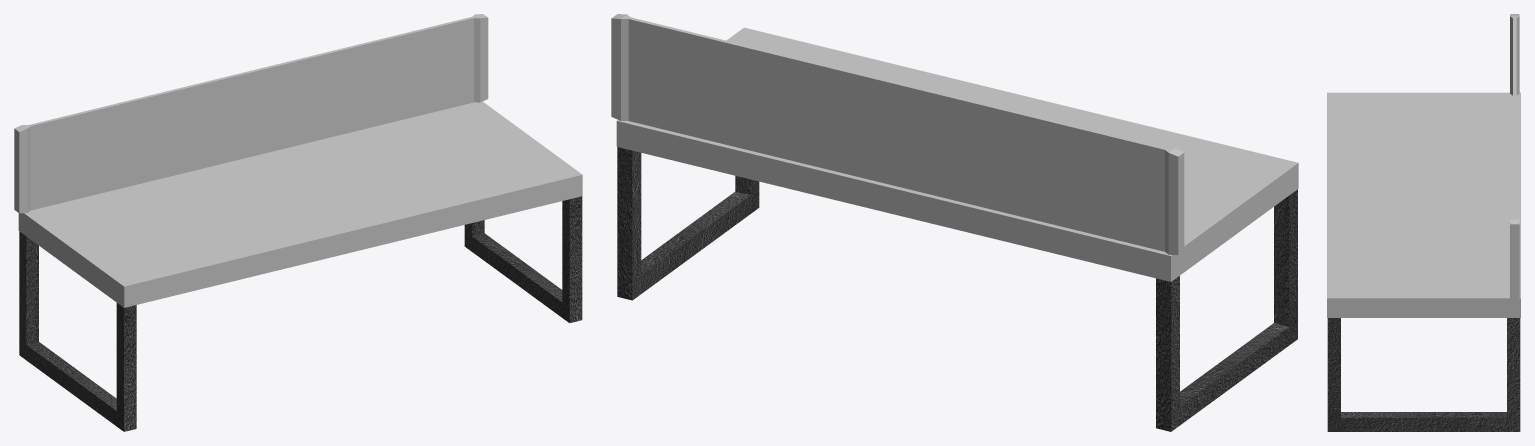
The model's file is fence.fbx.
3 views of the same model, side by side, from view 1: azimuth 30°, elevation 25°; view 2: azimuth 150°, elevation 25°; view 3: azimuth 270°, elevation 25° (orthographic). The views are drawn at different scales.
Parts seen in each view (by area): view 1: Cube, Cube.001, Cube.002; view 2: Cube.001, Cube, Cube.002; view 3: Cube, Cube.002, Cube.001.
Boxes of the visible parts, x1,y1,x2,y2 form: Cube: [18, 101, 582, 307]; Cube.001: [14, 14, 488, 213]; Cube.002: [19, 196, 582, 431]; Cube.001: [611, 14, 1184, 254]; Cube: [616, 27, 1298, 281]; Cube.002: [617, 147, 1297, 431]; Cube: [1327, 92, 1520, 317]; Cube.002: [1327, 318, 1520, 431]; Cube.001: [1510, 14, 1519, 298].
Bounding box in the file's own units: 359 × 168 × 140.
